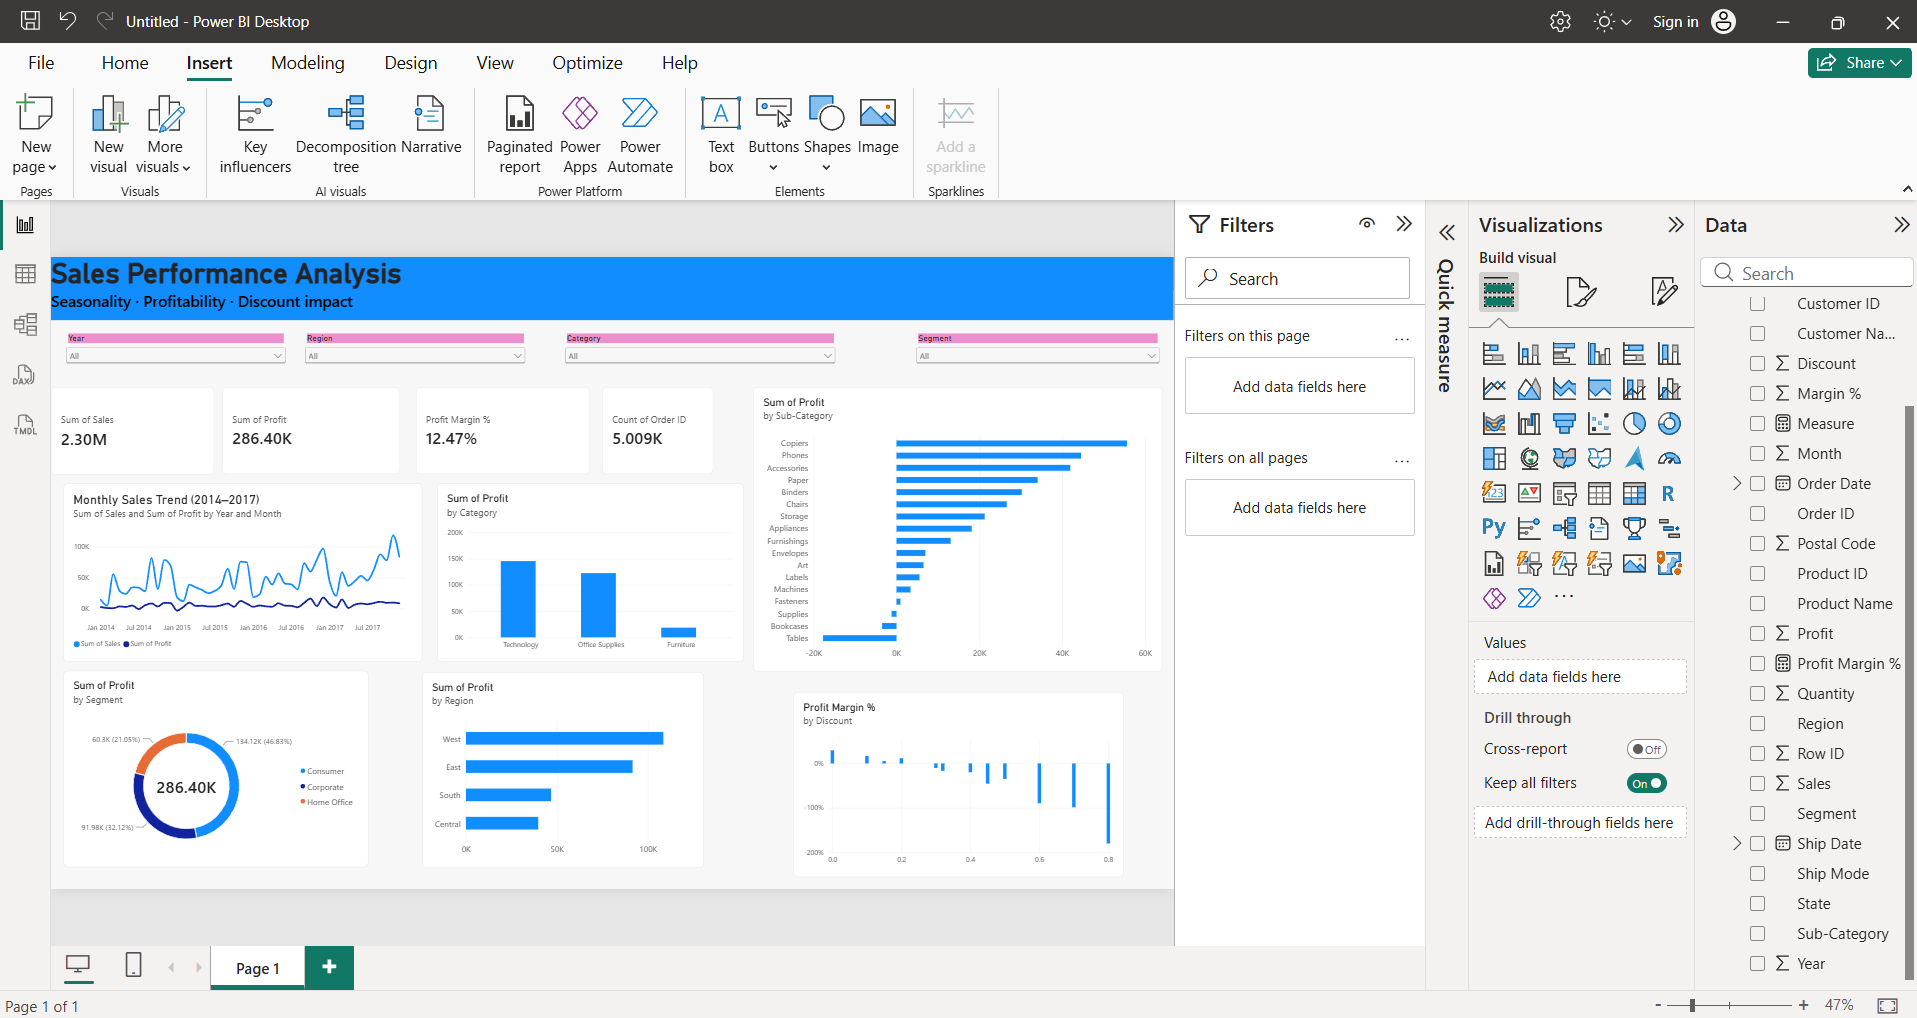

This screenshot's page, from the dashboard's own definition file:
{"tool":"powerbi","page":{"name":"Page 1","canvas":[1920,1080],"ordinal":0},"visuals":[{"type":"cardVisual","fields":{"Data":["Sum(sales_clean.Sales)"]},"box":[0,222.4,279.9,150.3],"z":0},{"type":"cardVisual","fields":{"Data":["Sum(sales_clean.Profit)"]},"box":[292.9,222.4,303.6,149.7],"z":1},{"type":"cardVisual","fields":{"Data":["sales_clean.Profit Margin %"]},"box":[624.3,222.4,297.2,149.7],"z":2},{"type":"cardVisual","fields":{"Data":["Count(sales_clean.Order ID)"]},"box":[942.9,222.4,190.3,149.7],"z":3},{"type":"lineChart","title":"Monthly Sales Trend (2014–2017)","fields":{"Category":["sales_clean.Order Date.Variation.Date Hierarchy.Year","sales_clean.Order Date.Variation.Date Hierarchy.Month"],"Y":["Sum(sales_clean.Sales)","Sum(sales_clean.Profit)"]},"box":[21.4,387,613.6,305.7],"z":4},{"type":"clusteredColumnChart","fields":{"Category":["sales_clean.Category"],"Y":["Sum(sales_clean.Profit)"]},"box":[660.7,387,523.8,305.7],"z":5},{"type":"clusteredBarChart","fields":{"Category":["sales_clean.Region"],"Y":["Sum(sales_clean.Profit)"]},"box":[635,709.8,481.6,335.5],"z":6},{"type":"clusteredBarChart","fields":{"Category":["sales_clean.Sub-Category"],"Y":["Sum(sales_clean.Profit)"]},"box":[1201.6,222.4,699.2,487.5],"z":7},{"type":"donutChart","fields":{"Category":["sales_clean.Segment"],"Y":["Sum(sales_clean.Profit)"]},"box":[21.4,707.7,521.7,335.7],"z":8},{"type":"clusteredColumnChart","fields":{"Category":["sales_clean.Discount"],"Y":["sales_clean.Profit Margin %"]},"box":[1270,744.1,564.5,316.4],"z":9},{"type":"slicer","fields":{"Values":["sales_clean.Order Date.Variation.Date Hierarchy.Year"]},"box":[21.4,130.4,384.9,91.9],"z":10},{"type":"slicer","fields":{"Values":["sales_clean.Region"]},"box":[429.8,130.4,387,91.9],"z":11},{"type":"slicer","fields":{"Values":["sales_clean.Category"]},"box":[874.5,130.4,472.5,104.8],"z":12},{"type":"slicer","fields":{"Values":["sales_clean.Segment"]},"box":[1475.3,130.4,425.5,91.9],"z":13},{"type":"textbox","title":"Sales Performance Analysis","box":[0,0,1920,109],"z":14}]}

Visuals, with their boxes on the page's 1920x1080 design canvas (x1, y1, x2, y2). These are canvas units, not pixel positions in the 1917x1018 screenshot, which may show the page scaled, cropped or inside an application window:
cardVisual - Sum(sales_clean.Sales): <region>0, 222, 280, 373</region>
cardVisual - Sum(sales_clean.Profit): <region>293, 222, 596, 372</region>
cardVisual - sales_clean.Profit Margin %: <region>624, 222, 922, 372</region>
cardVisual - Count(sales_clean.Order ID): <region>943, 222, 1133, 372</region>
"Monthly Sales Trend (2014–2017)" lineChart: <region>21, 387, 635, 693</region>
clusteredColumnChart - sales_clean.Category x Sum(sales_clean.Profit): <region>661, 387, 1184, 693</region>
clusteredBarChart - sales_clean.Region x Sum(sales_clean.Profit): <region>635, 710, 1117, 1045</region>
clusteredBarChart - sales_clean.Sub-Category x Sum(sales_clean.Profit): <region>1202, 222, 1901, 710</region>
donutChart - sales_clean.Segment x Sum(sales_clean.Profit): <region>21, 708, 543, 1043</region>
clusteredColumnChart - sales_clean.Discount x sales_clean.Profit Margin %: <region>1270, 744, 1834, 1060</region>
slicer - sales_clean.Order Date.Variation.Date Hierarchy.Year: <region>21, 130, 406, 222</region>
slicer - sales_clean.Region: <region>430, 130, 817, 222</region>
slicer - sales_clean.Category: <region>874, 130, 1347, 235</region>
slicer - sales_clean.Segment: <region>1475, 130, 1901, 222</region>
"Sales Performance Analysis" textbox: <region>0, 0, 1920, 109</region>
